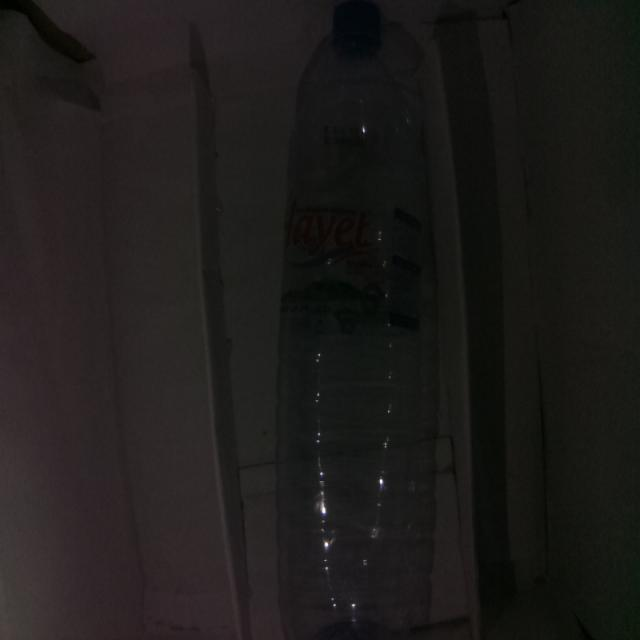bottle: (262, 1, 452, 640)
label: (277, 209, 428, 332)
